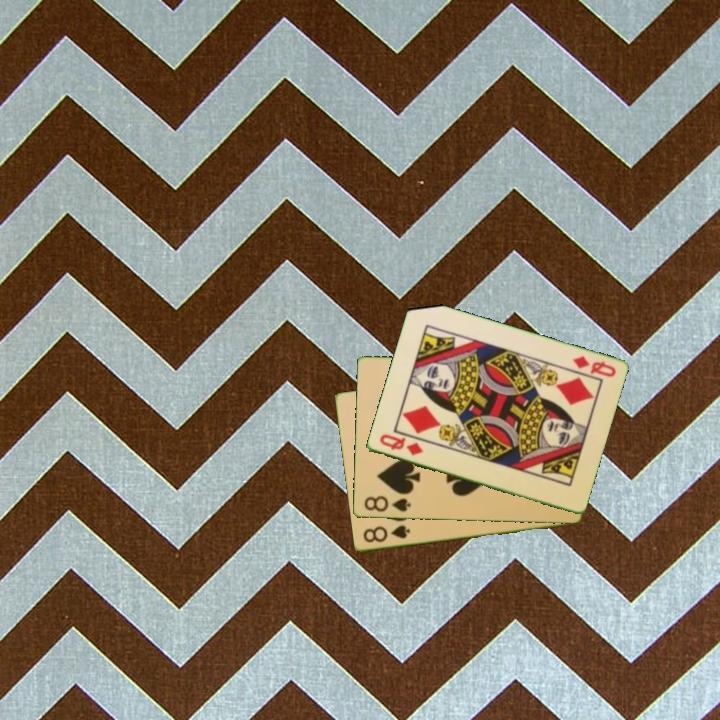8s: (359, 522, 413, 546), (360, 492, 413, 515)
Qd: (376, 431, 426, 459), (568, 352, 618, 380)
